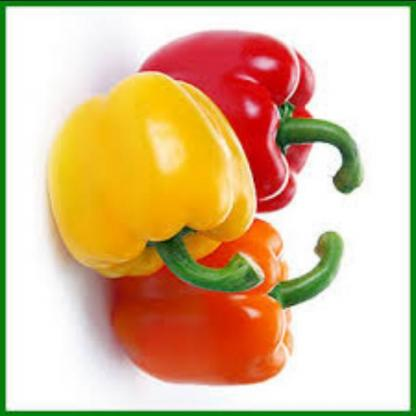bell pepper: (46, 66, 258, 272), (102, 212, 343, 390), (119, 29, 327, 209)
